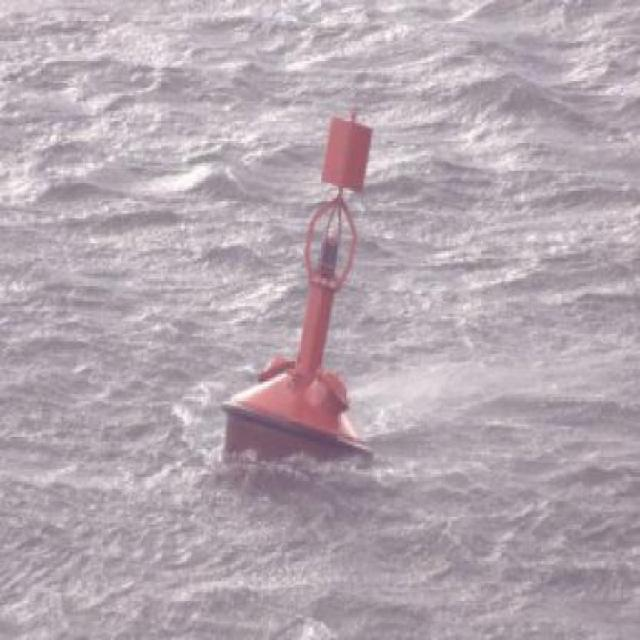buoy: (212, 71, 390, 493)
